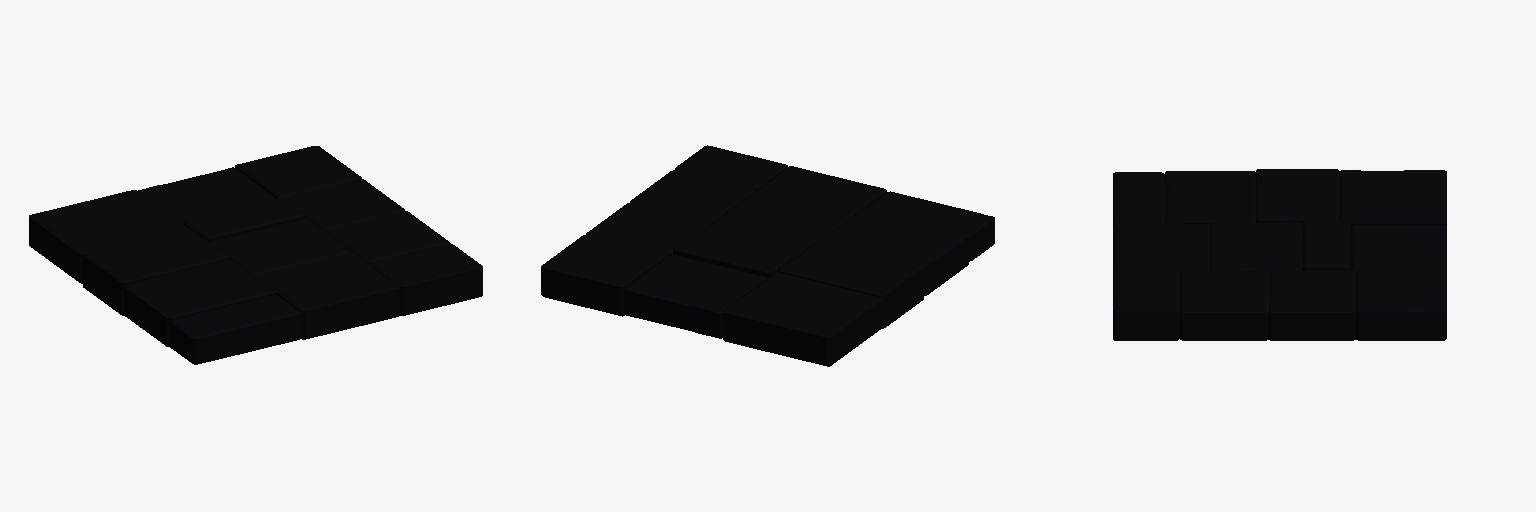
File: Floor_Modular.obj
The picture shows the model from 3 angles: view 1: azimuth 30°, elevation 25°; view 2: azimuth 150°, elevation 25°; view 3: azimuth 270°, elevation 25°; orthographic projection.
Visible parts, largest first — view 1: Floor_Modular.001; view 2: Floor_Modular.001; view 3: Floor_Modular.001.
Part boxes in pixels (bbox=[...]): Floor_Modular.001: bbox=[29, 146, 482, 364]; Floor_Modular.001: bbox=[541, 145, 994, 366]; Floor_Modular.001: bbox=[1113, 169, 1446, 340].
Size of the model in its own units: 2 by 0.2503 by 2.